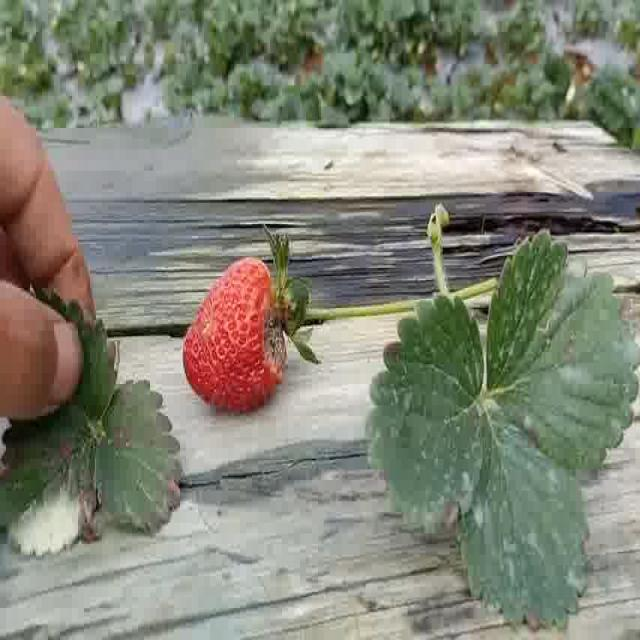Mancha negra Antracnosis: (176, 256, 298, 408)
